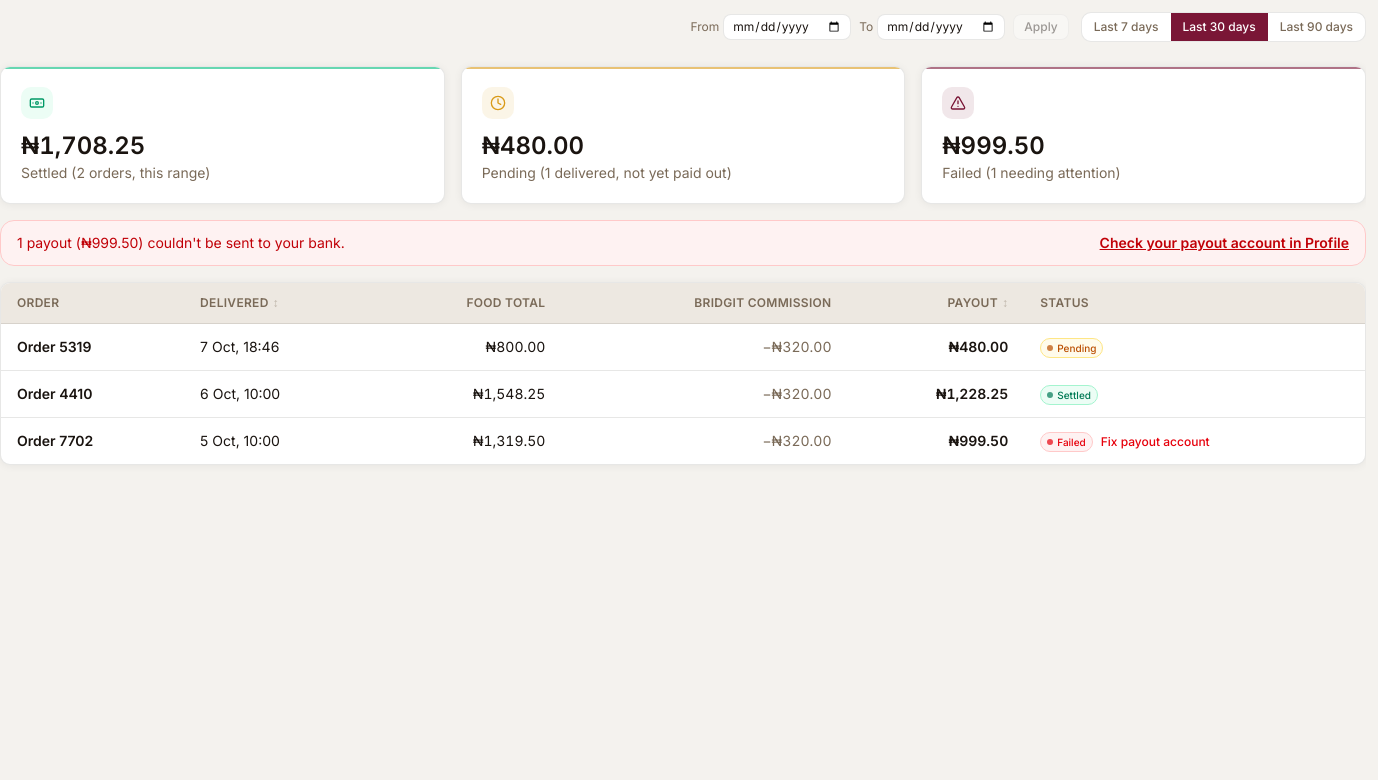
Test: Restaurant earnings › a custom range asks for those whole days in Lagos time
Type "2026-10-01" into the date field labelled "From" at (787, 27), box top-left (723, 14), bottom-right (851, 40)
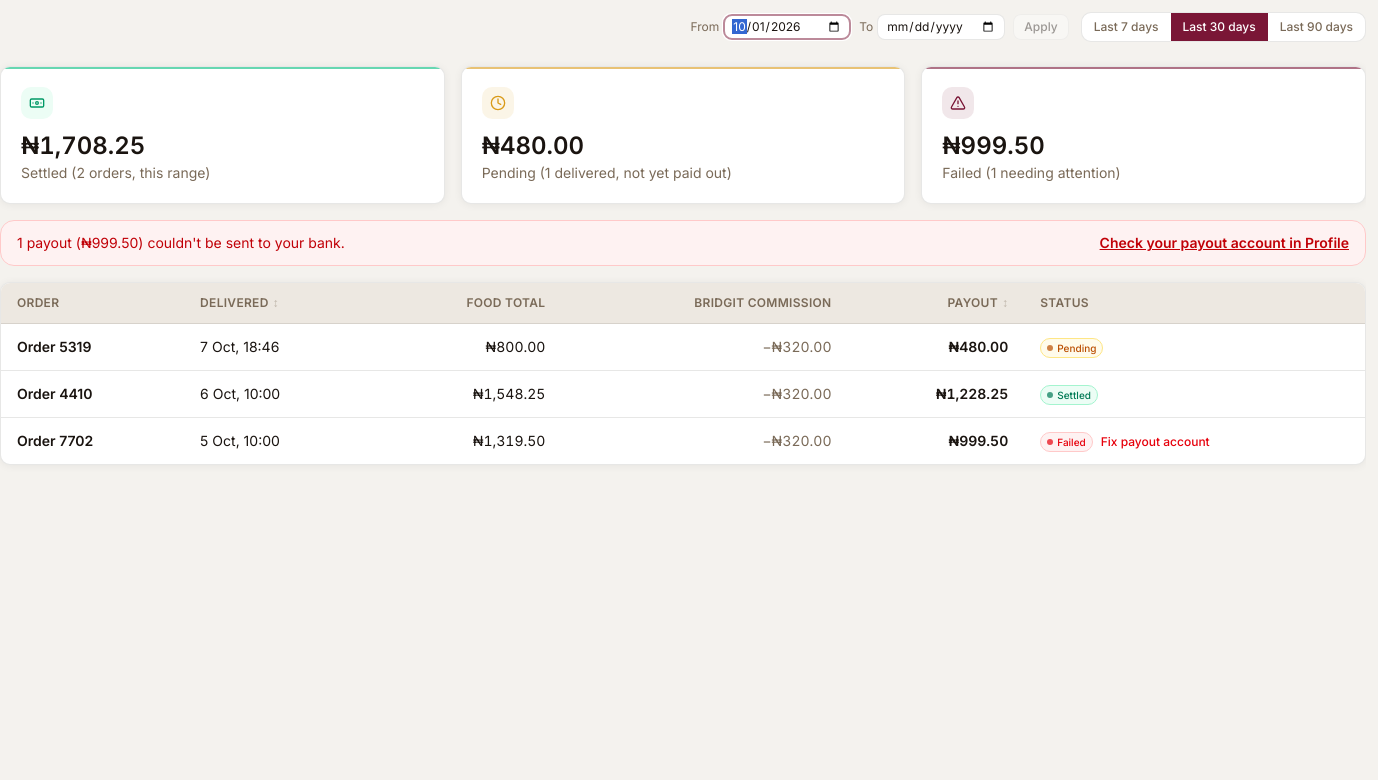
Type "2026-10-07" into the date field labelled "To" at (941, 27), box top-left (877, 14), bottom-right (1005, 40)
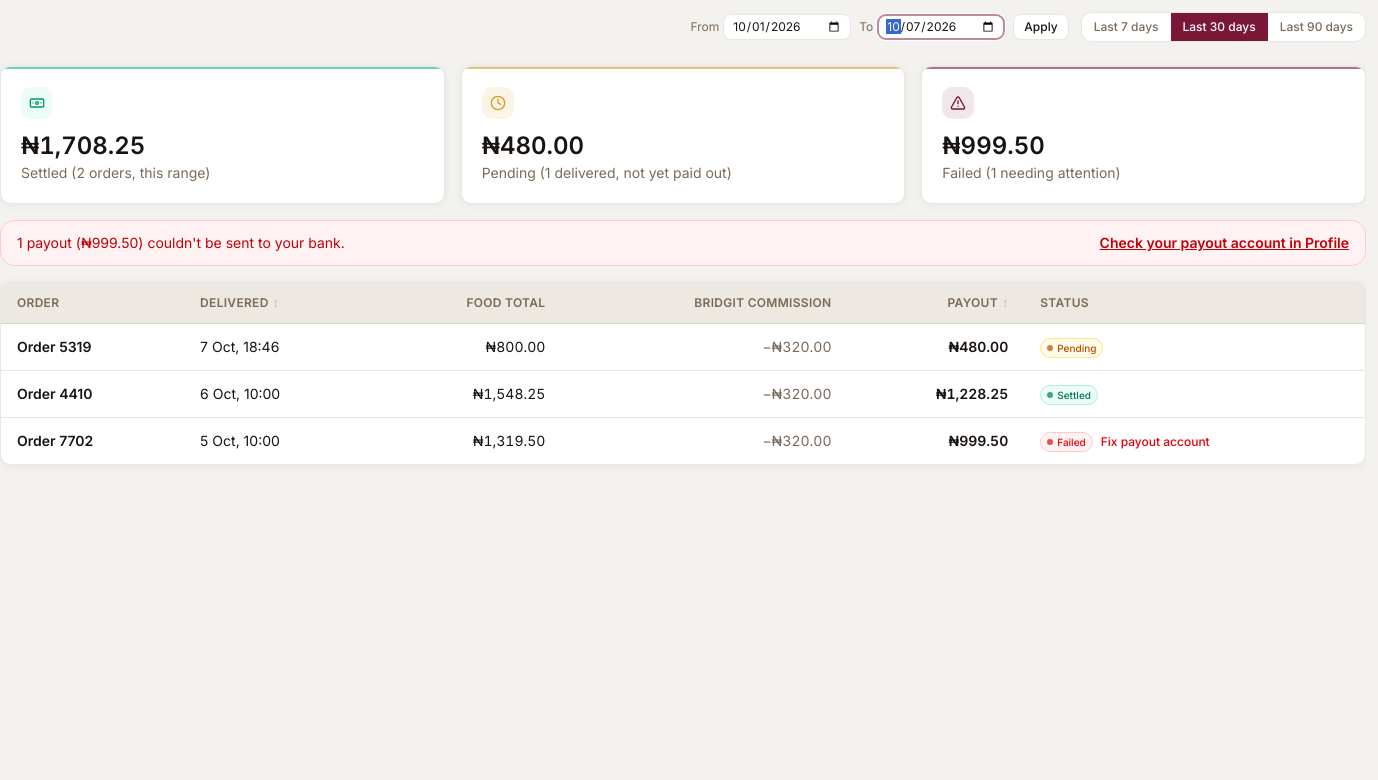
Click the button "Apply" at (1041, 27), box top-left (1013, 14), bottom-right (1069, 40)
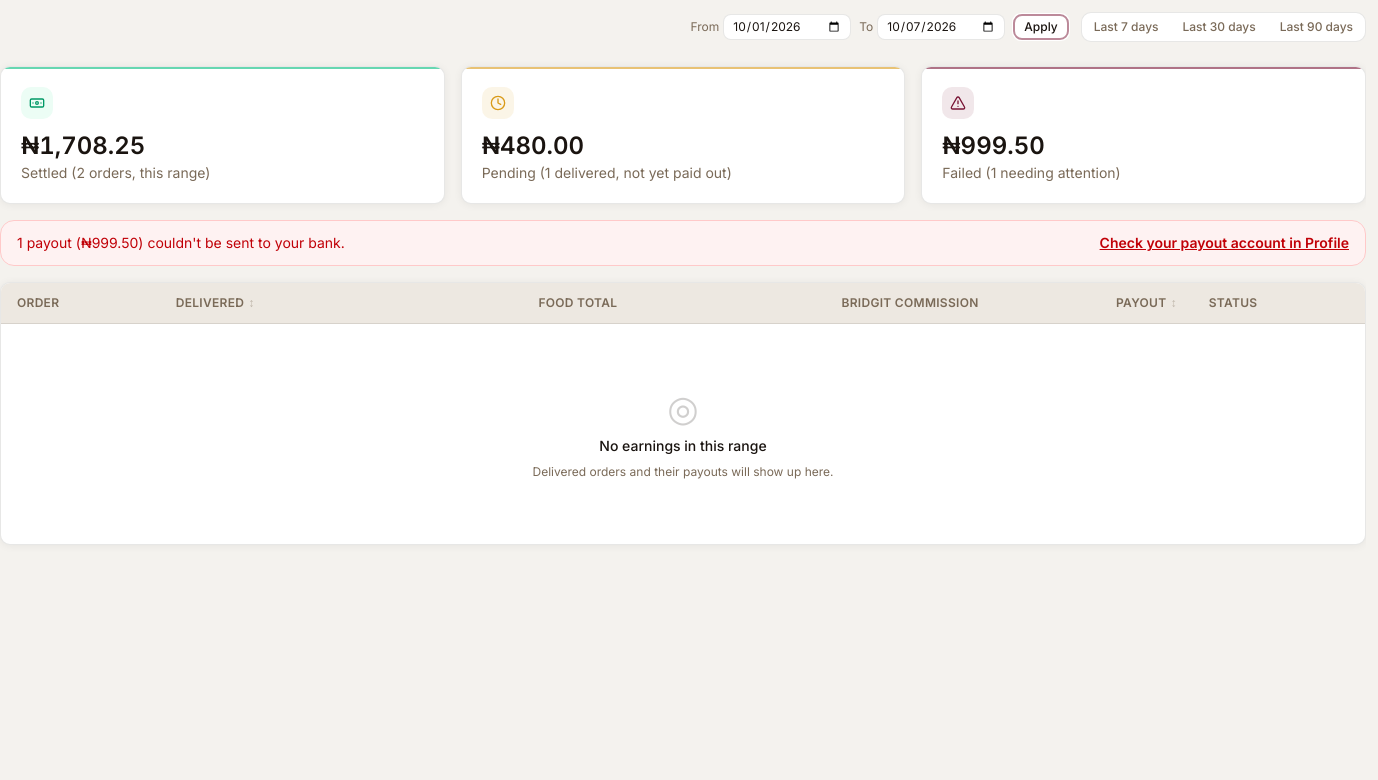
Now the text "No earnings in this range" is shown, box top-left (599, 436), bottom-right (767, 456)
